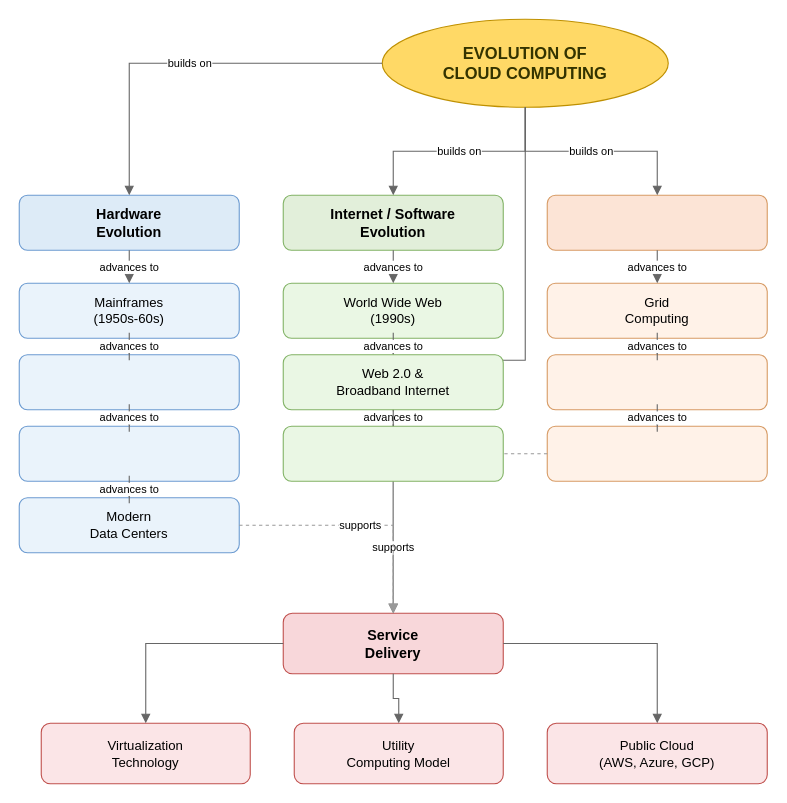
Image size: 787x803. Some labels were removed from this diagram. The box of each missing label's shape, as (x1, y1, x2, y2) in pixels:
Cluster Computing: (546, 354, 767, 410)
Clusters & Commodity Servers: (18, 425, 239, 481)
Distributed Systems: (546, 194, 767, 250)
Minicomputers & Personal Computers: (18, 354, 239, 410)
Peer-to-Peer Systems: (546, 425, 767, 481)
Service-Oriented Architecture (SOA): (282, 425, 503, 481)
